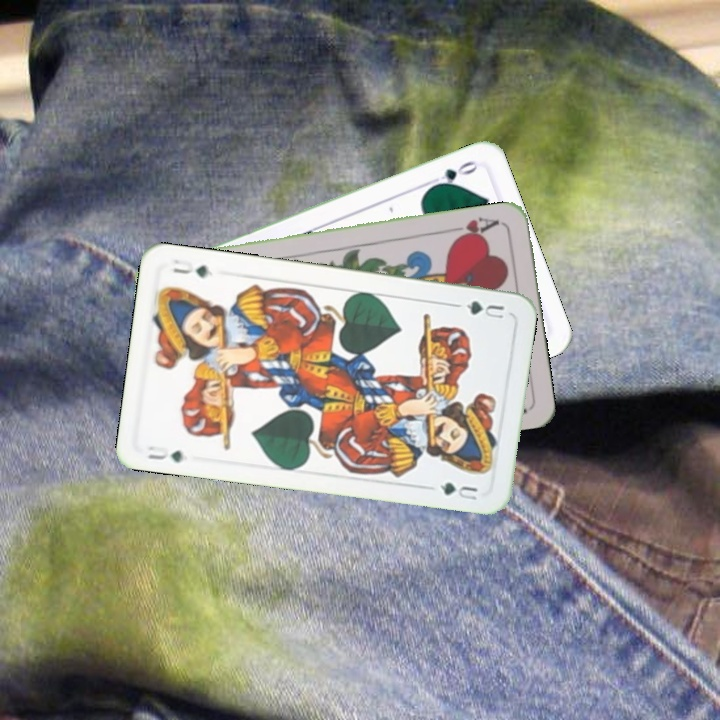GO: (424, 157, 480, 191)
GU: (461, 297, 507, 322), (143, 441, 186, 465)
HA: (445, 213, 502, 243)
